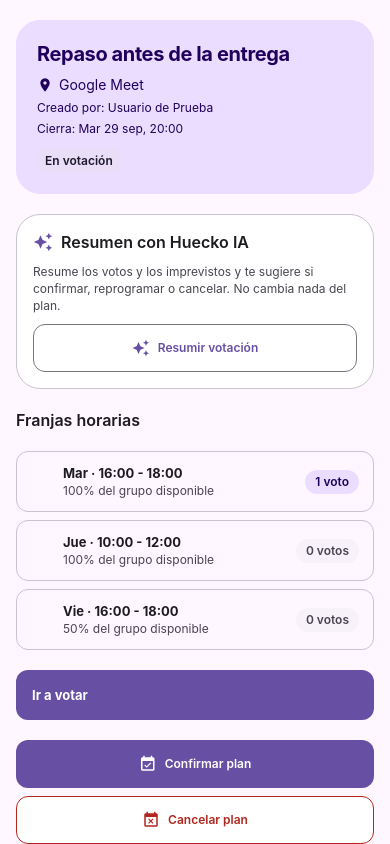
Scenario: cancelar pide confirmación y avisa
Click the text "Cancelar plan".
click(208, 820)  # box [168, 812, 248, 828]
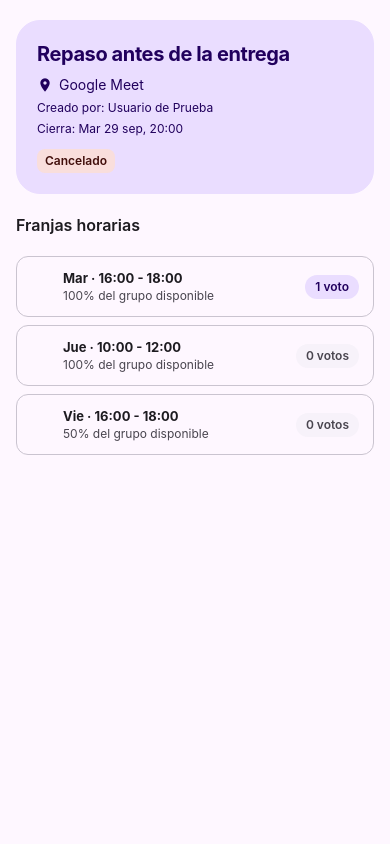
Result: the text "Cancelado" is shown at [45, 153, 107, 169]
